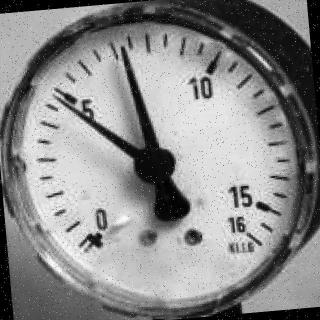gauge: (0, 0, 320, 320), (69, 204, 121, 262), (222, 210, 274, 256), (131, 142, 176, 188), (115, 41, 131, 62), (49, 91, 64, 106)
